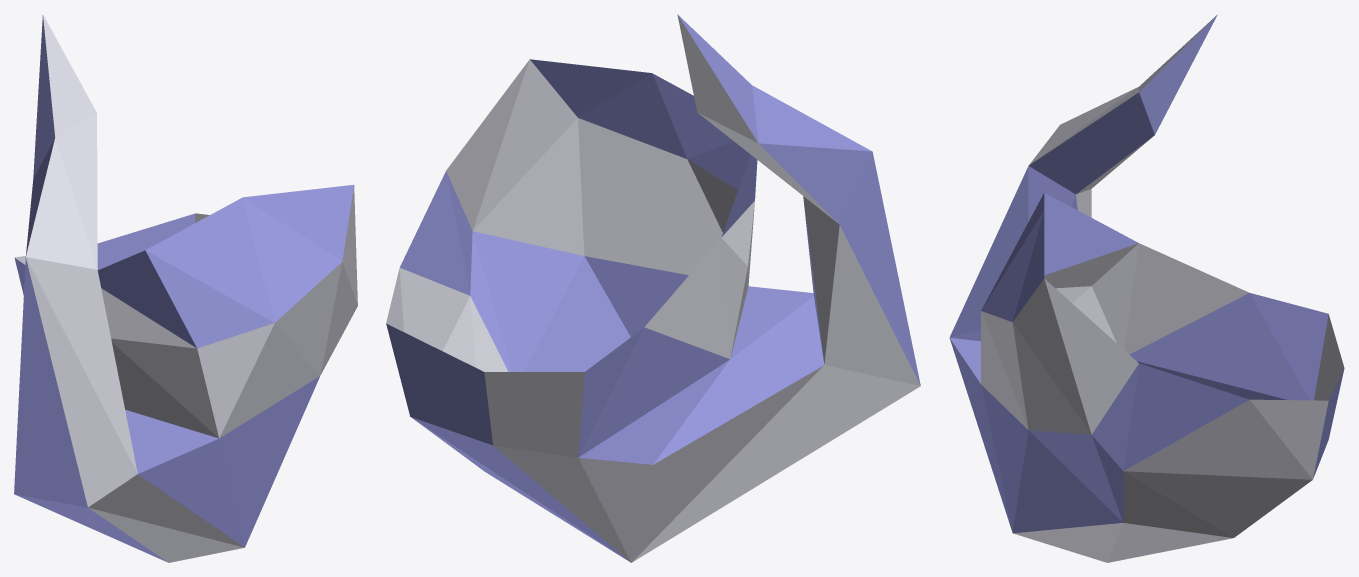
The picture shows the model from 3 angles, left to right: view 1: azimuth 30°, elevation 25°; view 2: azimuth 150°, elevation 25°; view 3: azimuth 270°, elevation 25°; orthographic projection. The views are drawn at different scales.
Bounding box in the file's own units: 0.2109 × 0.2812 × 0.1953.
